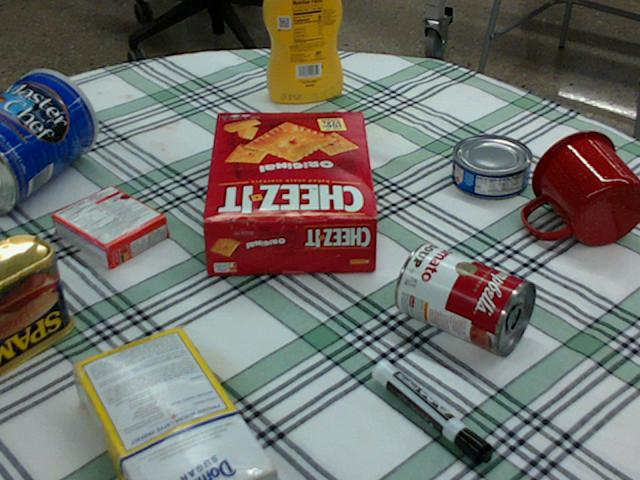cracker_box: (197, 110, 374, 272)
gelatin_box: (52, 184, 168, 270)
large_marker: (373, 360, 491, 467)
master_chef_can: (0, 69, 96, 216)
mug: (523, 130, 639, 246)
mustard_bottle: (263, 0, 342, 103)
potted_meat_can: (0, 232, 74, 375)
sugar_box: (67, 329, 274, 479)
tomato_soup_can: (394, 241, 535, 356)
tuna_fish_can: (452, 135, 533, 199)
